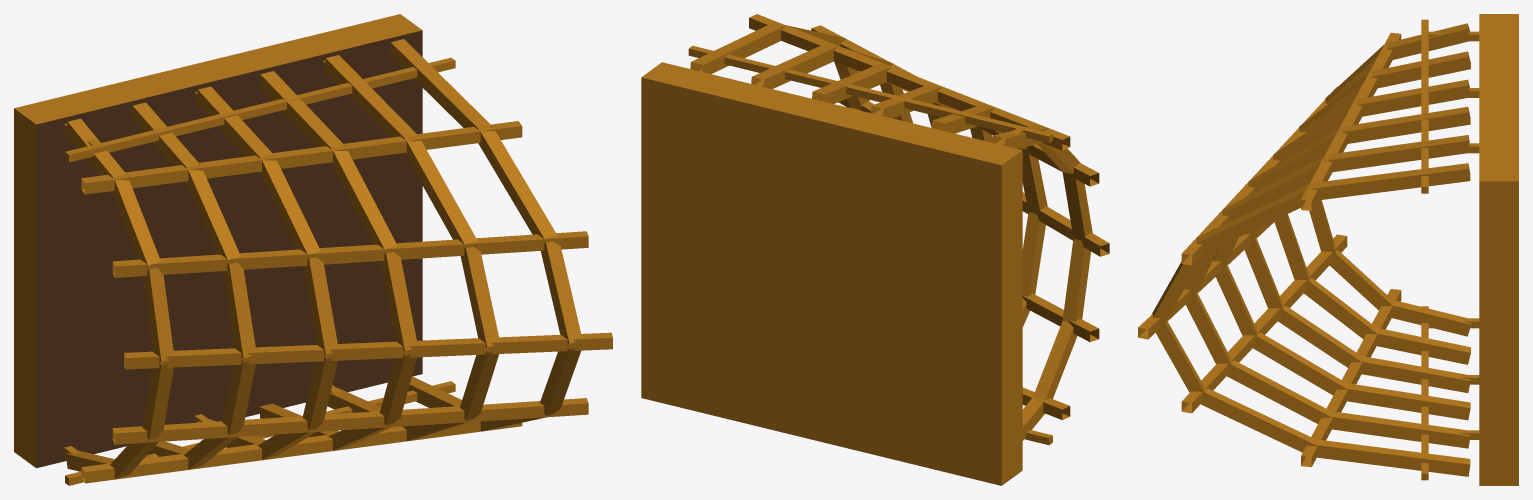
Rendered from north.glb.
3 views of the same model, side by side, from view 1: azimuth 30°, elevation 25°; view 2: azimuth 150°, elevation 25°; view 3: azimuth 270°, elevation 25° (orthographic). The views are drawn at different scales.
Parts seen in each view (by area): view 1: bridge_11_north; view 2: bridge_11_north; view 3: bridge_11_north.
Boxes of the visible parts, <box> form: bridge_11_north: <box>14,14,612,485</box>; bridge_11_north: <box>641,14,1109,485</box>; bridge_11_north: <box>1138,14,1518,485</box>.
Bounding box in the file's own units: 16.19 × 13.74 × 15.4.
